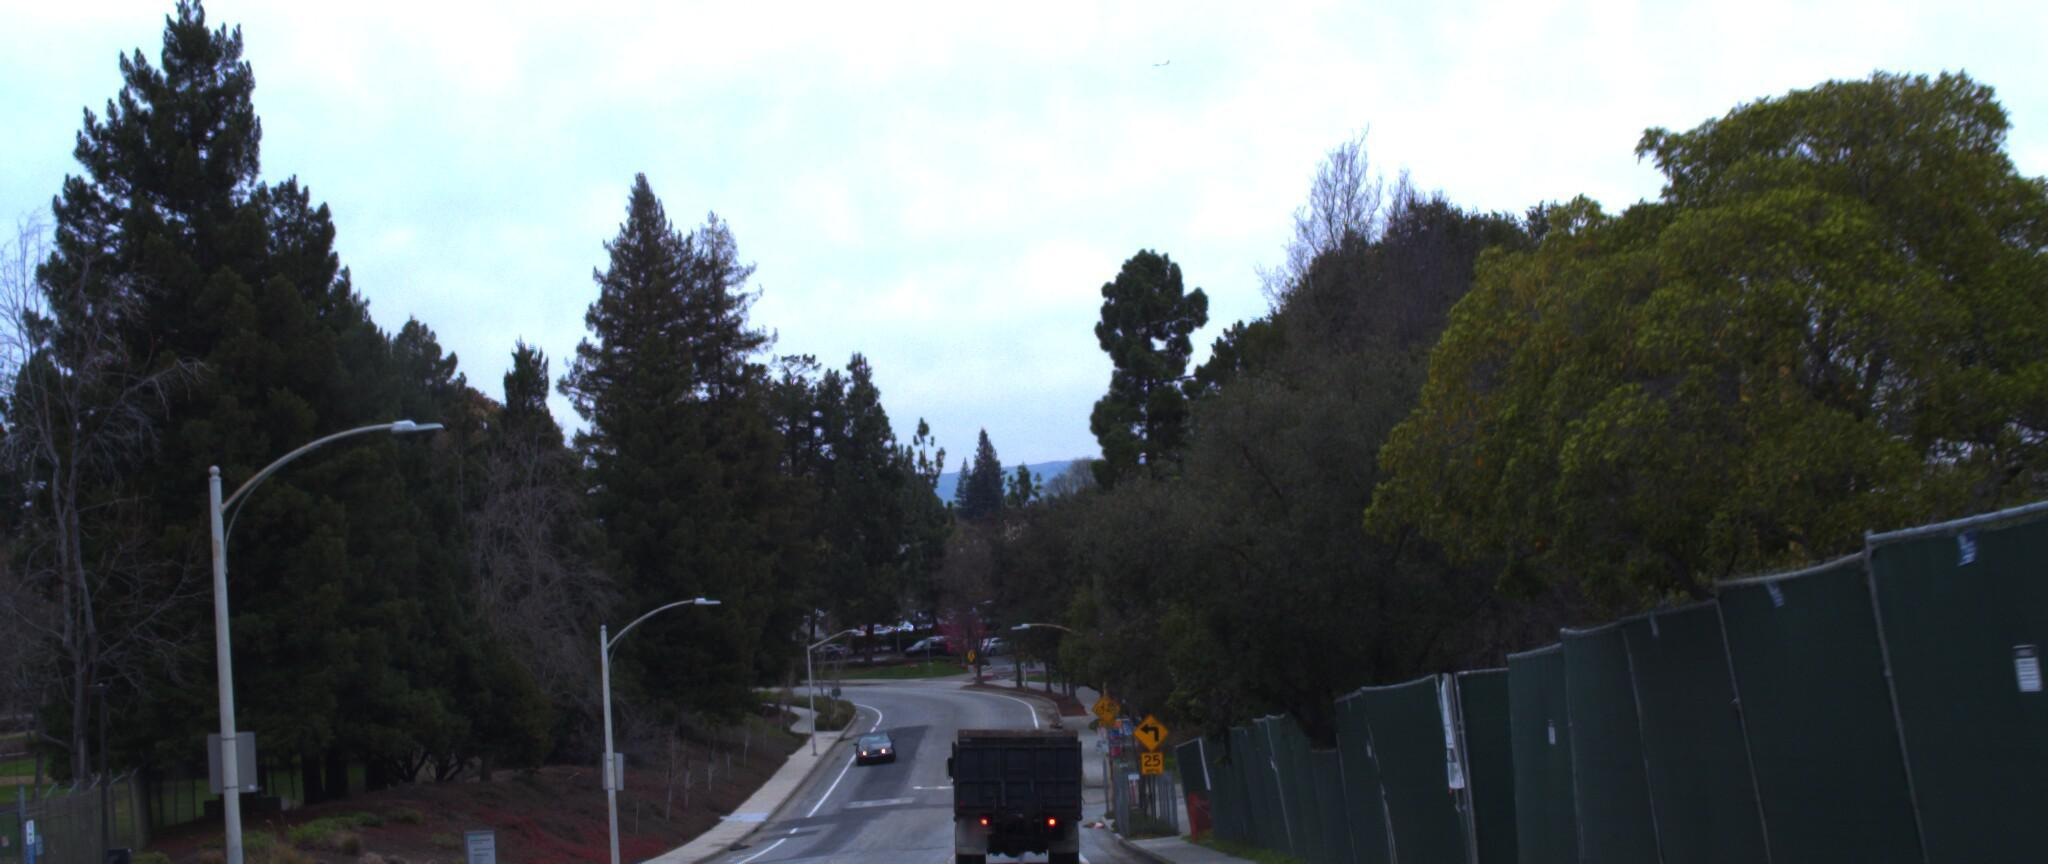truck: (935, 692, 1093, 864)
